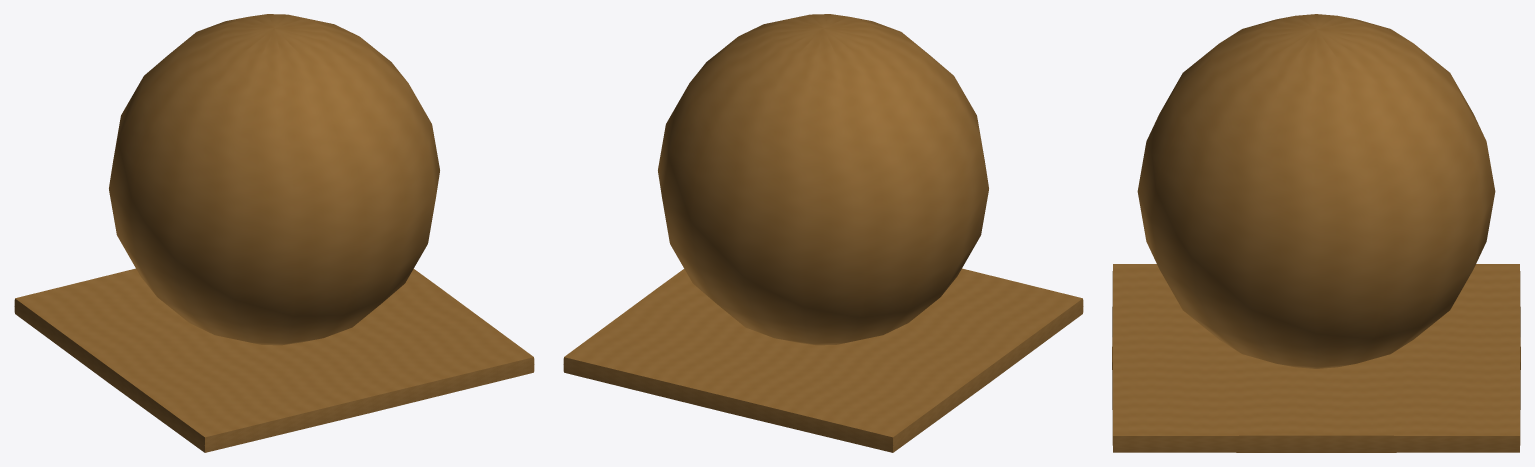
3 views of the same model, side by side, from view 1: azimuth 30°, elevation 25°; view 2: azimuth 150°, elevation 25°; view 3: azimuth 270°, elevation 25° (orthographic). The views are drawn at different scales.
Parts seen in each view (by area): view 1: surface.0, surface.1; view 2: surface.0, surface.1; view 3: surface.0, surface.1.
Part boxes in pixels (left/top/right/bottom): surface.0: left=109, top=14, right=439, bottom=345; surface.1: left=14, top=268, right=534, bottom=452; surface.0: left=658, top=14, right=988, bottom=345; surface.1: left=563, top=268, right=1083, bottom=452; surface.0: left=1137, top=14, right=1495, bottom=368; surface.1: left=1112, top=264, right=1520, bottom=452.
Size of the model in its own units: 0.8 by 0.73 by 0.8.
1 material, 1 textured.
